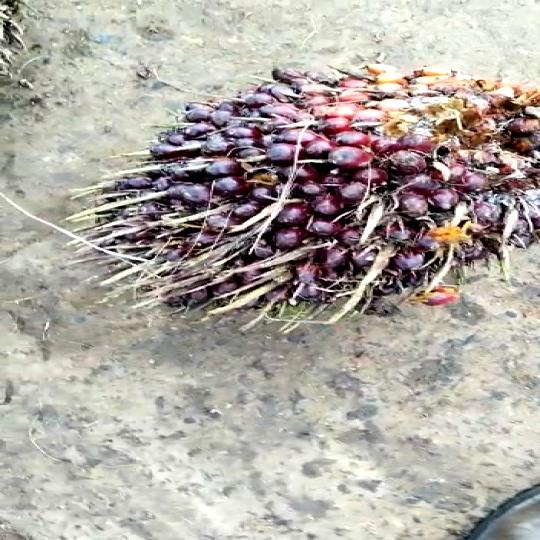kurang masak: (74, 54, 540, 357)
